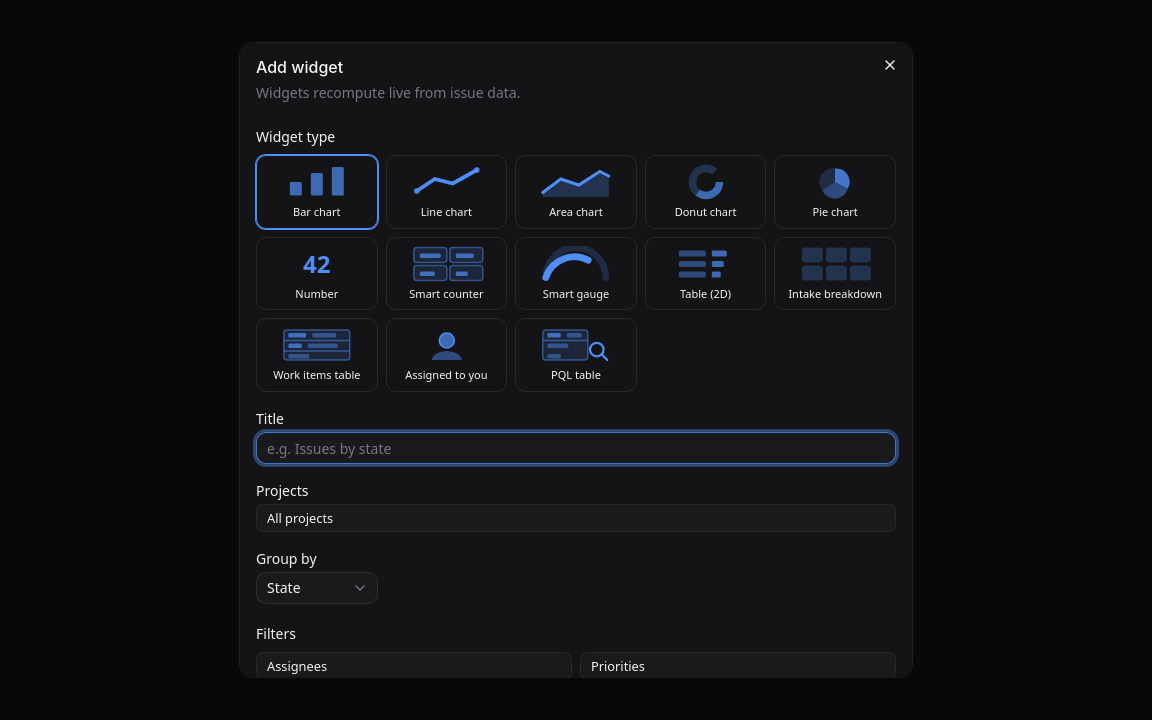
Scenario: WidgetDialog phase-2 config panels › shows metric, max-rows and the visualization toggle for smart_counter
Click the radio button labelled "Smart counter" at (446, 274), box [386, 237, 507, 311]
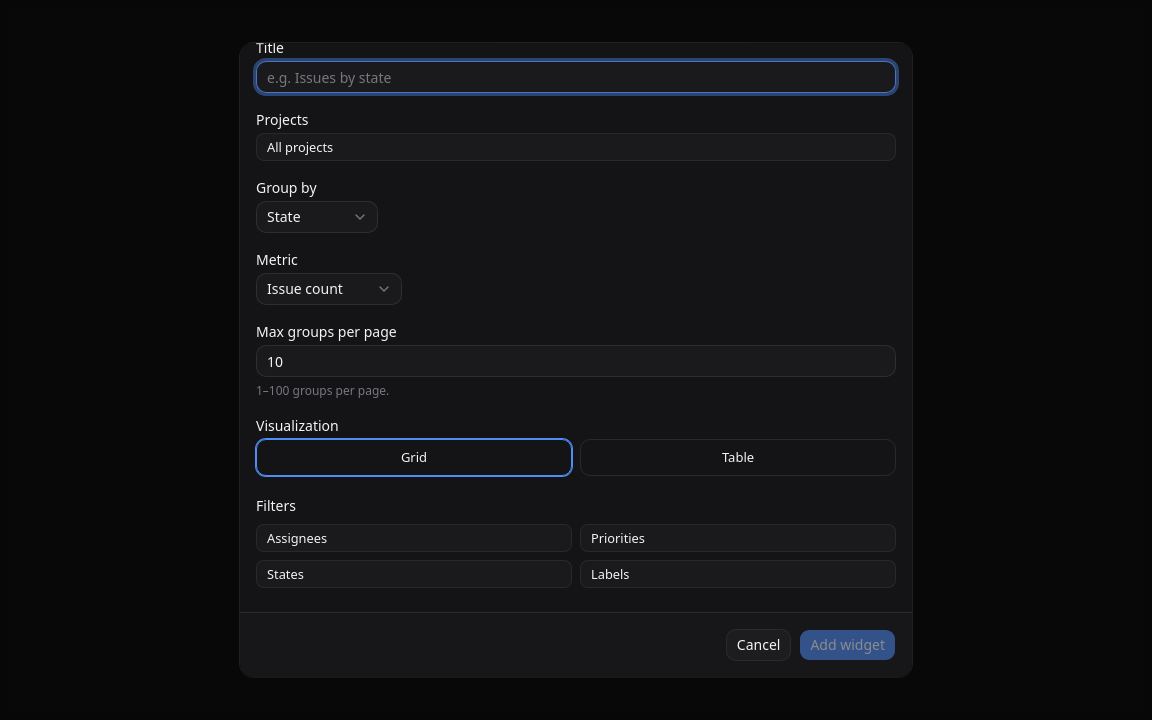
Expected: the dropdown labelled "Metric" is shown, [256, 273, 402, 305]
Expected: the number field labelled "Max groups per page" is shown, [256, 345, 896, 377]
Expected: the number of radio buttons is 2, [256, 439, 572, 476]; [580, 439, 896, 476]
